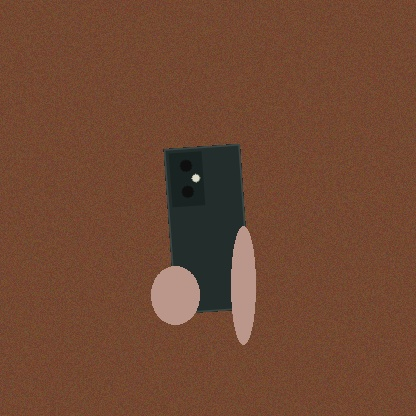cell_phone: (163, 144, 251, 314)
